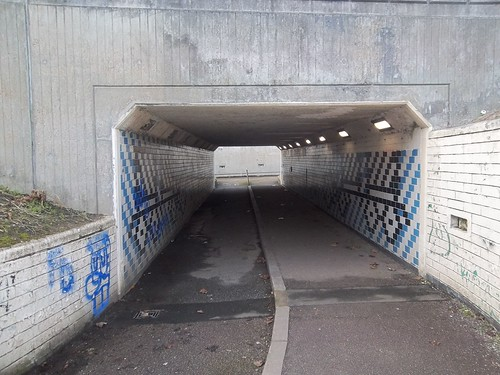graffiti: (75, 237, 127, 312)
tunnel: (122, 111, 421, 285)
